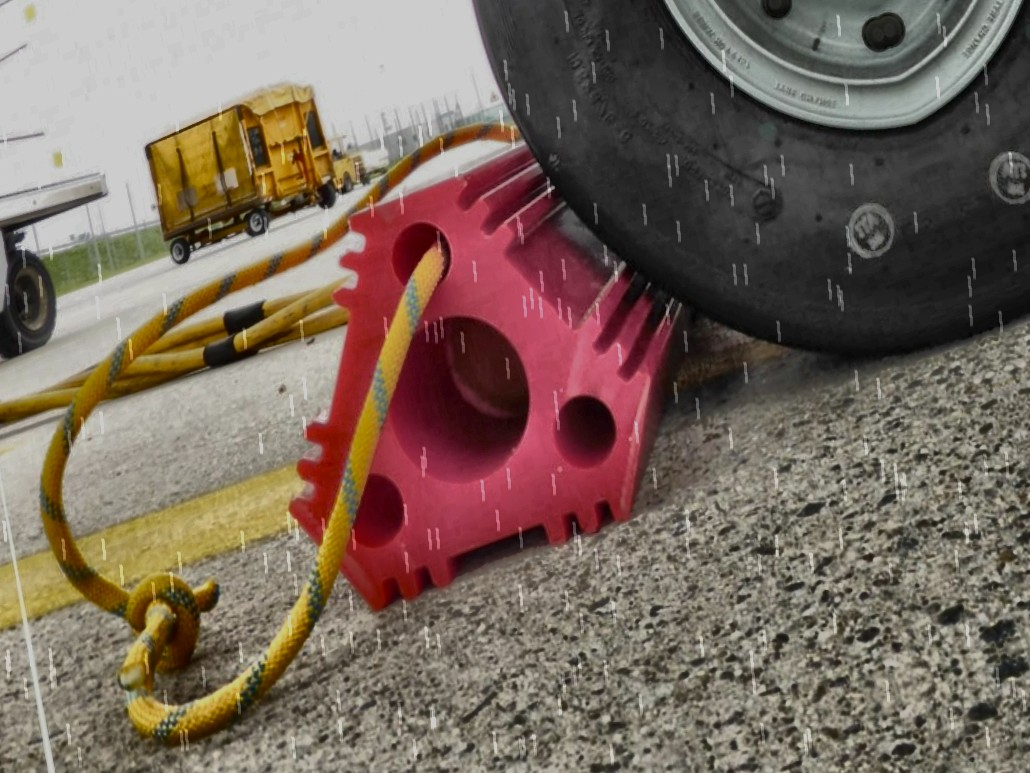chock: (231, 92, 754, 641)
wheel: (449, 0, 1000, 483), (808, 0, 1030, 344), (0, 242, 65, 366), (243, 203, 271, 238), (169, 234, 193, 267), (314, 178, 338, 210), (337, 167, 358, 196)
